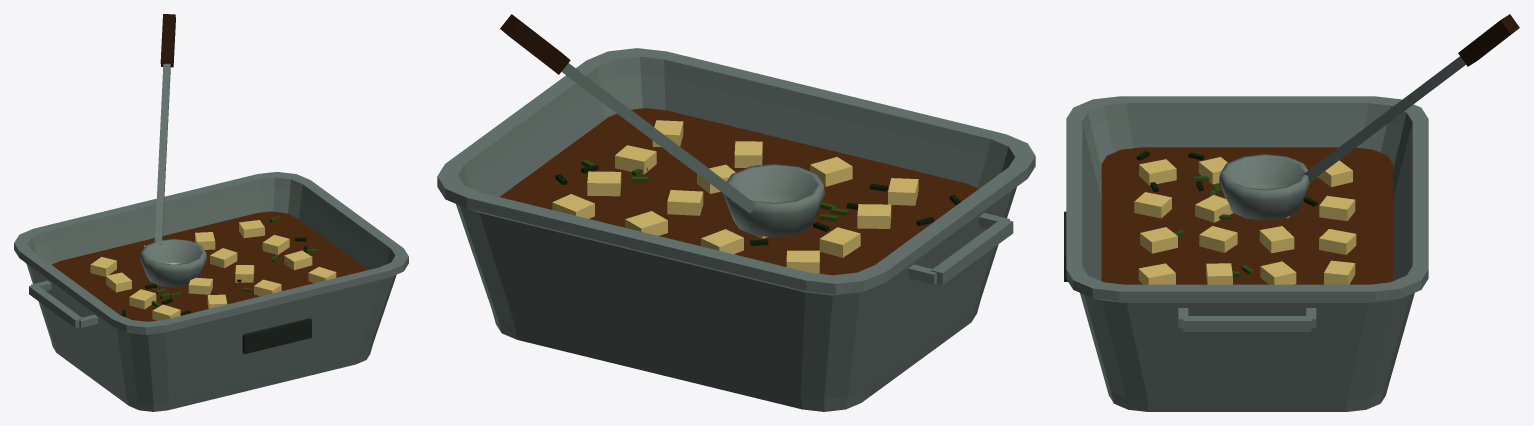
File: 02_Soup_Pan.fbx
The picture shows the model from 3 angles, left to right: view 1: azimuth 30°, elevation 25°; view 2: azimuth 150°, elevation 25°; view 3: azimuth 270°, elevation 25°; orthographic projection. The views are drawn at different scales.
Parts seen in each view (by area): view 1: Container.001, Food.001, Utensil.001; view 2: Container.001, Food.001, Utensil.001; view 3: Container.001, Food.001, Utensil.001.
Boxes of the visible parts, <box> form: Container.001: <box>14,172,408,411</box>; Food.001: <box>51,211,367,321</box>; Utensil.001: <box>140,14,207,287</box>; Container.001: <box>437,48,1035,411</box>; Food.001: <box>500,108,978,275</box>; Utensil.001: <box>500,14,824,237</box>; Container.001: <box>1064,96,1428,411</box>; Food.001: <box>1101,147,1392,284</box>; Utensil.001: <box>1219,14,1519,220</box>.
Bounding box in the file's own units: 71.1 × 54.36 × 64.16.
Materials: 2 (2 with a texture image).
